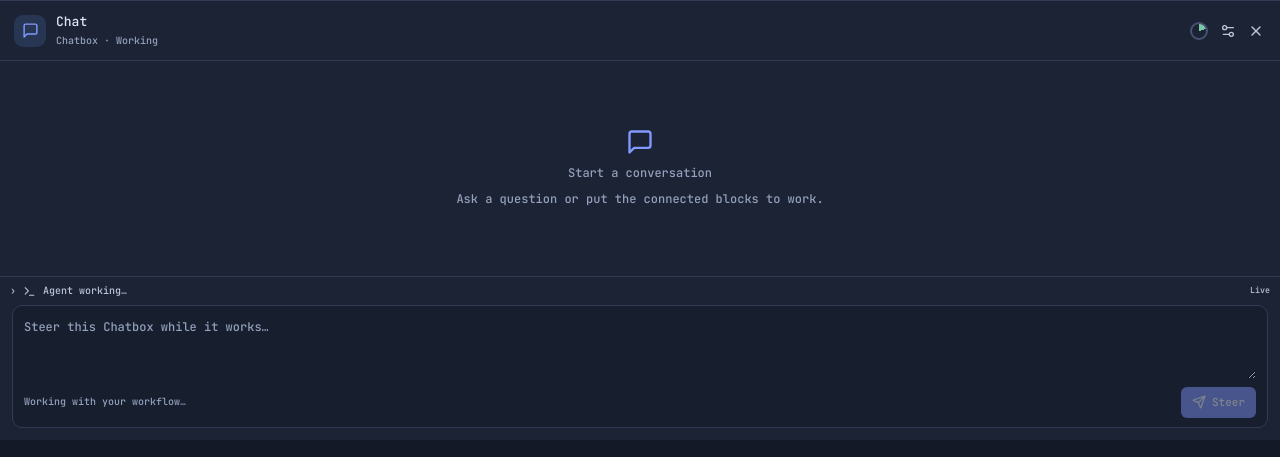
Test case: context inspector › offers the same clickable context pie in a working workflow Chatbox
Click the button named "Inspect context. Context window: 20% used (200 of 1,000 toke" at (1199, 31), box [1186,19,1212,43]
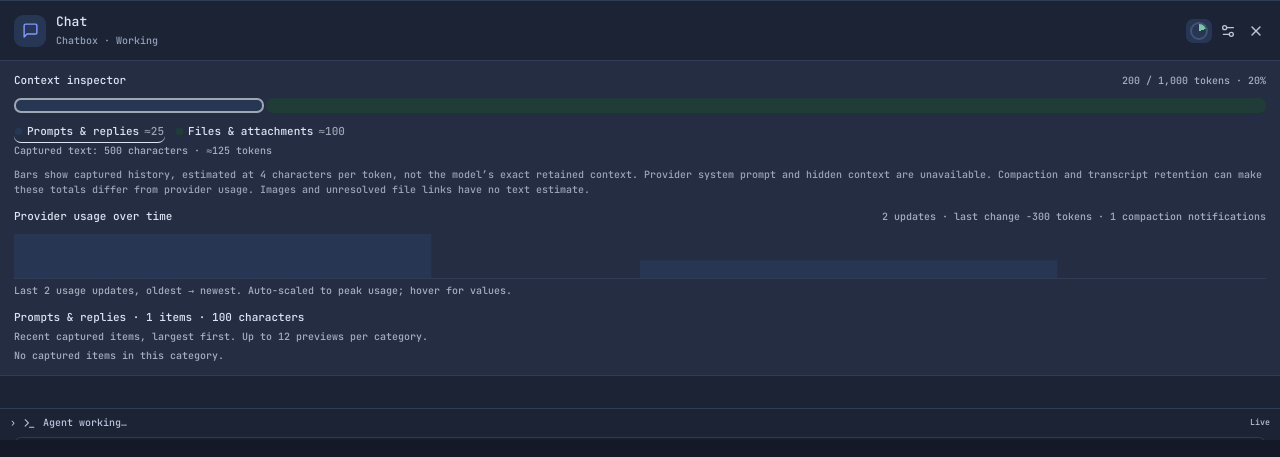
Click the button named "Inspect context. Context window: 20% used (200 of 1,000 toke" at (1199, 31), box [1186,19,1212,43]
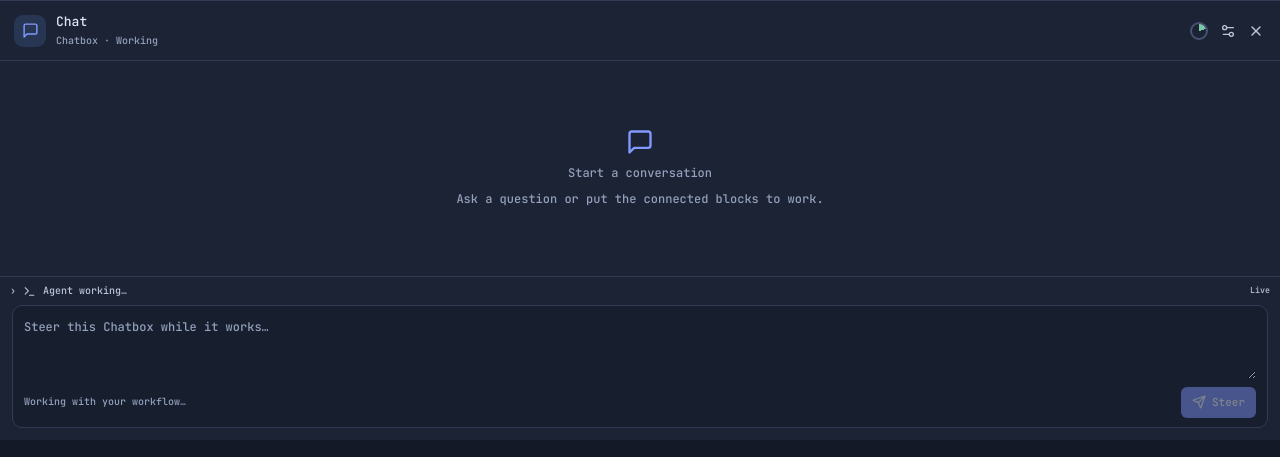
Expected: the text "Context inspector" is gone
